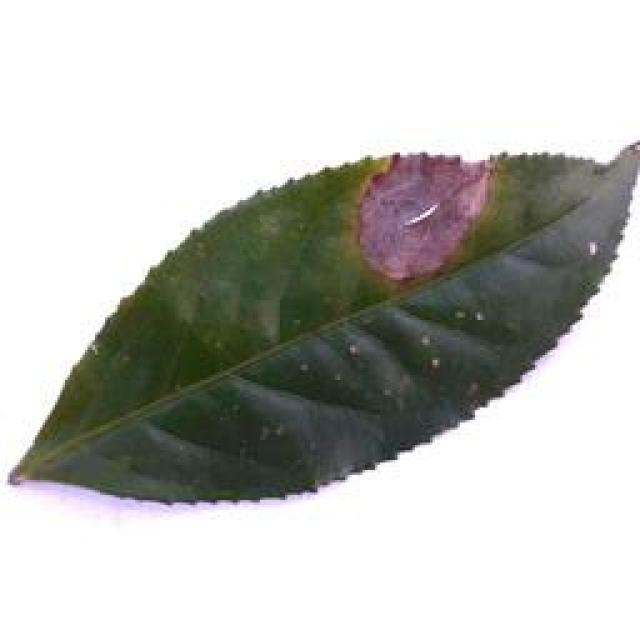Gray Blight: (9, 133, 640, 507)
